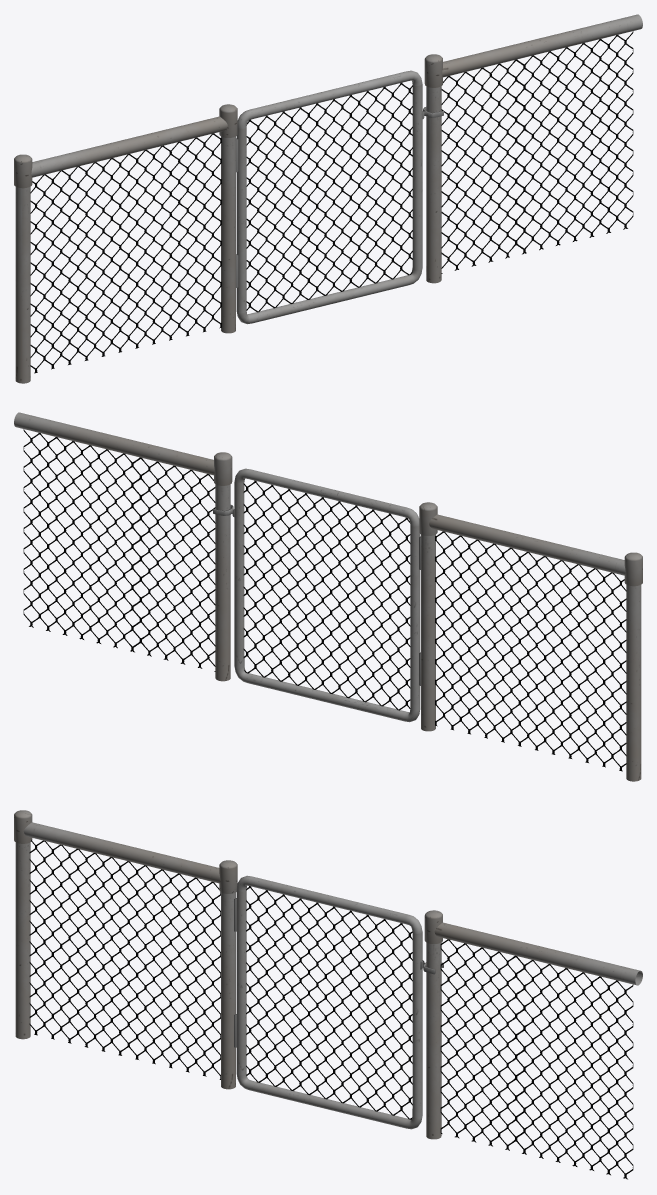
File: chain_fence_door_straight.fbx
3 renders of one model, top to bottom at view 1: azimuth 30°, elevation 25°; view 2: azimuth 150°, elevation 25°; view 3: azimuth 330°, elevation 25°, orthographic.
Visible parts, largest first — view 1: chain_fence_door_straight; view 2: chain_fence_door_straight; view 3: chain_fence_door_straight.
Boxes of the visible parts, bbox=[...] form: chain_fence_door_straight: bbox=[14, 14, 642, 383]; chain_fence_door_straight: bbox=[14, 412, 642, 781]; chain_fence_door_straight: bbox=[14, 810, 642, 1179].
Size of the model in its own units: 3.04 by 1.04 by 0.0791.
Materials: 2 (2 with a texture image).
